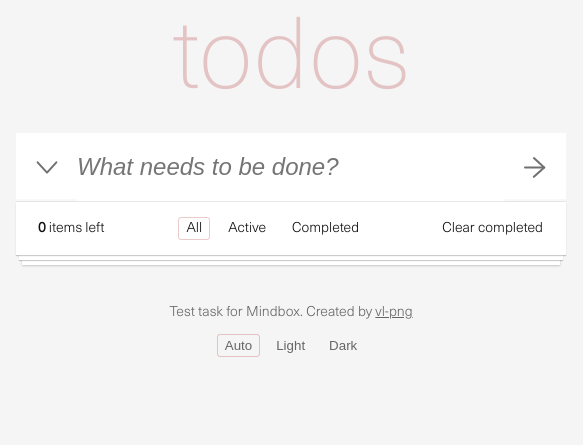
Todos E2E › edits task
The image size is (583, 445).
Type "Hello world" into the field with placeholder "What needs to be done?" at (291, 167), box [77,133,505,201]
Then press Enter
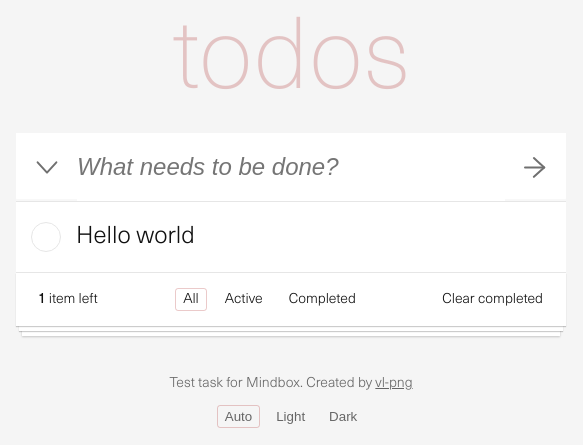
Double-click the label "Hello world" at (136, 237), box [76,225,195,249]
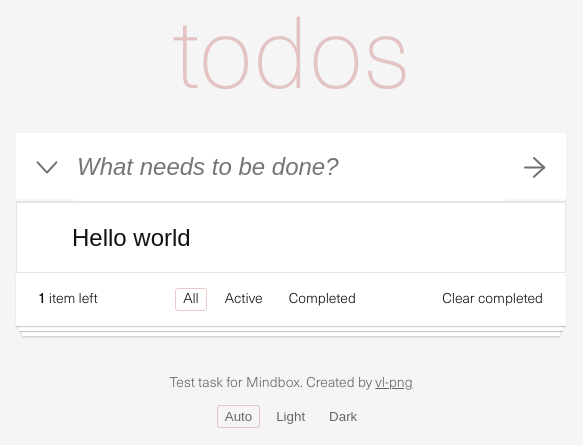
Replace the text in the 2nd field with "Hello world 2025" at (291, 238), box [16,202,566,273]
Then press Enter
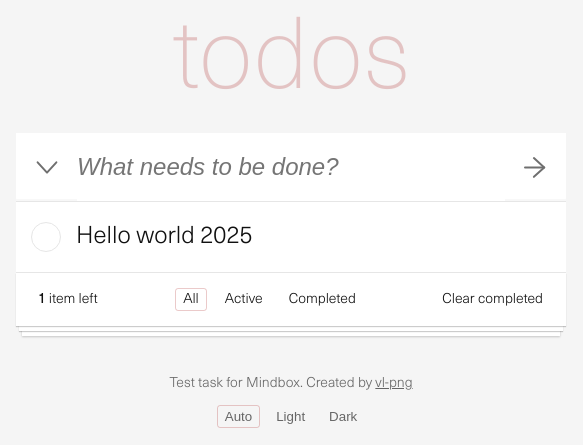
Check: the list item "Hello world 2025" is shown, box [16,202,566,273]
